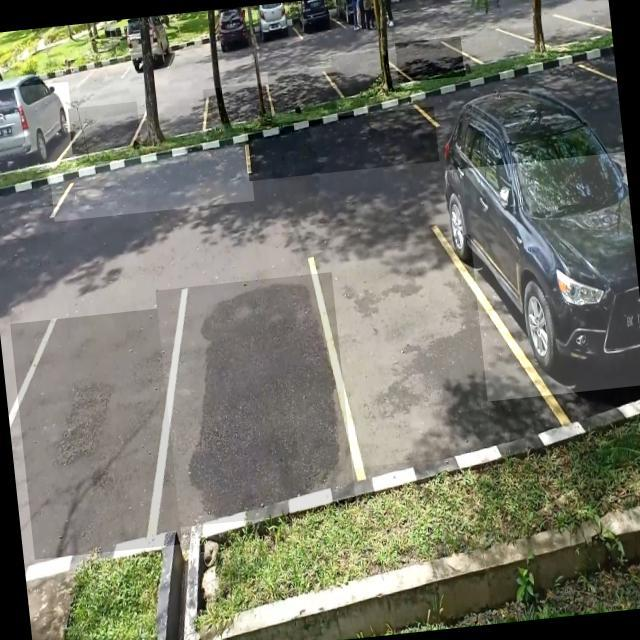empty: (155, 272, 356, 526), (10, 308, 182, 559), (311, 234, 493, 469), (48, 146, 255, 221), (244, 106, 438, 181), (67, 100, 150, 154), (136, 88, 211, 142), (460, 22, 536, 70), (330, 49, 401, 100), (268, 66, 338, 115), (394, 36, 466, 82), (202, 82, 274, 125)
occupied: (444, 151, 640, 402), (0, 81, 77, 175)
